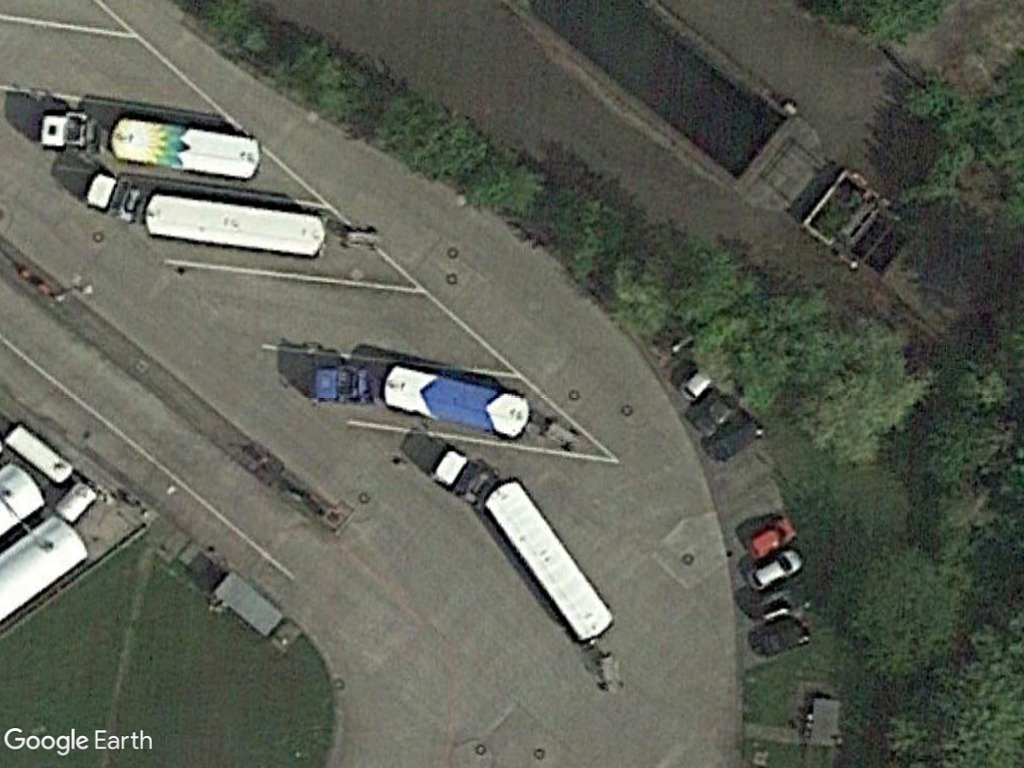car: (742, 547, 805, 597)
longvehicle: (480, 472, 616, 645), (143, 189, 328, 261), (380, 356, 531, 441), (108, 111, 265, 181)
